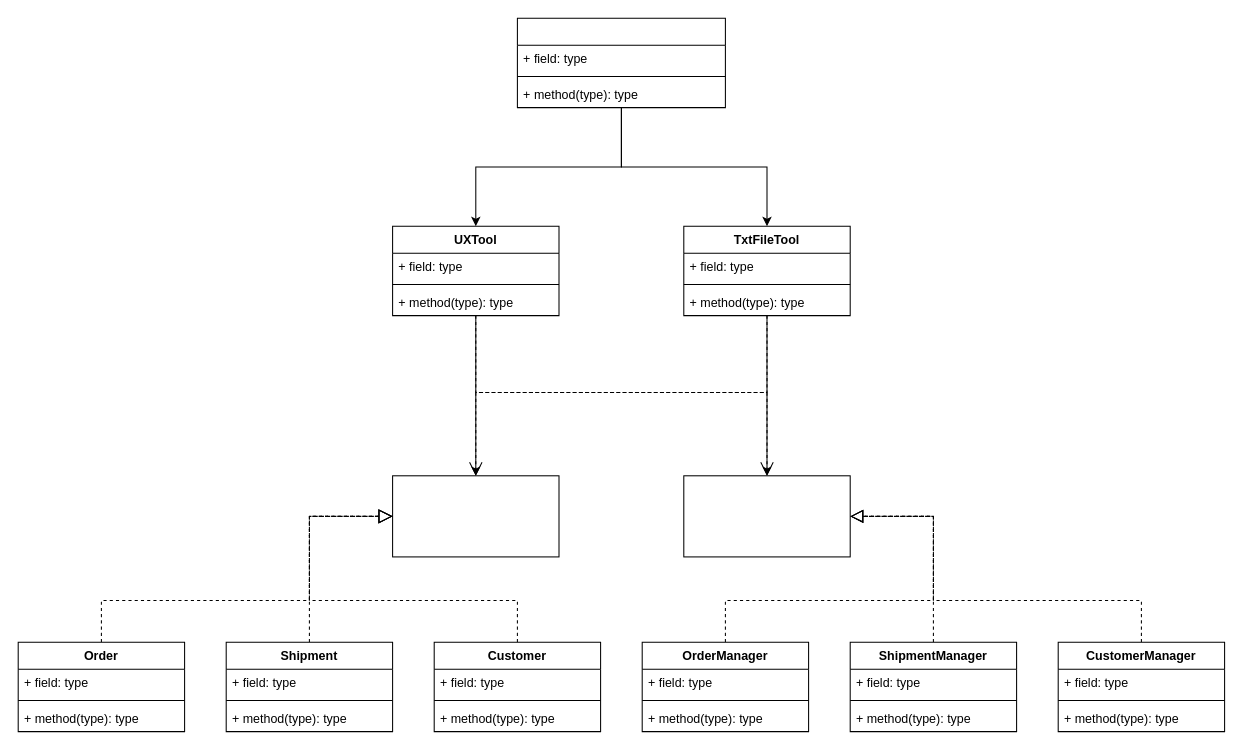
Some shapes in this 1243 by 753 pixel diagram are drawn without their labels. Each missing label, with the box of its shape:
Runner: (516, 17, 725, 108)
«interface» Entry: (392, 475, 559, 557)
«interface» Manager: (683, 475, 850, 557)
